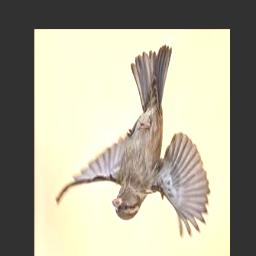Sparrow: (56, 45, 209, 238)
